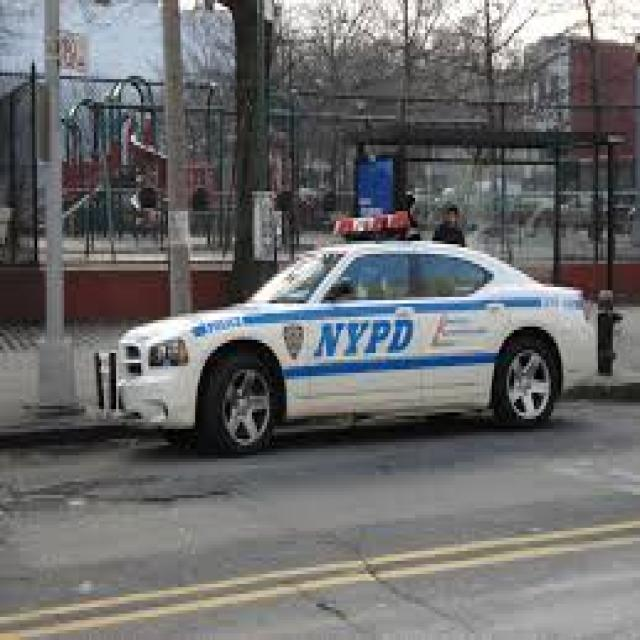cop: (98, 216, 590, 456)
